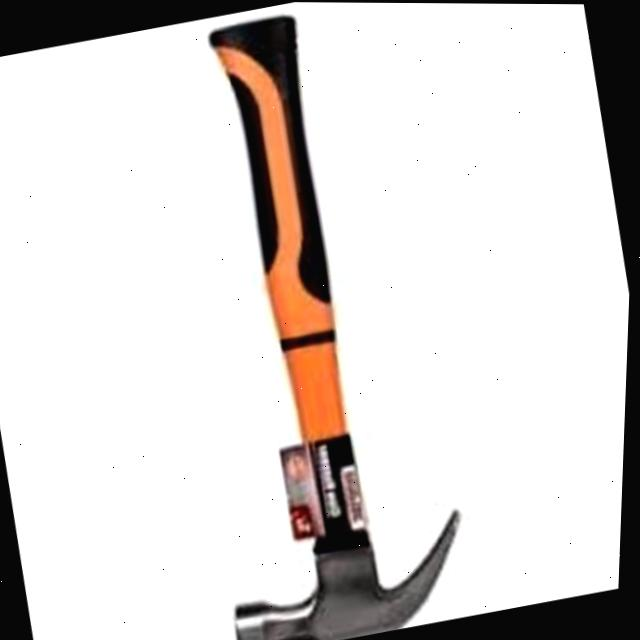hammer: (111, 1, 507, 640)
